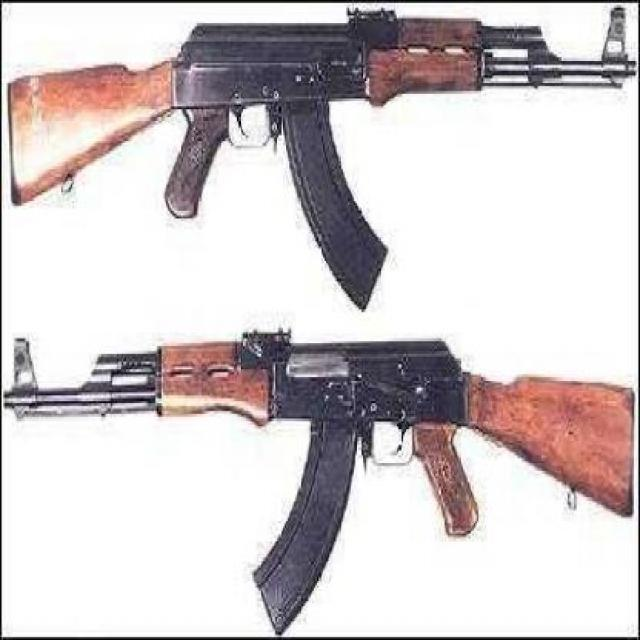weapon: (1, 0, 640, 314), (1, 326, 640, 640)
